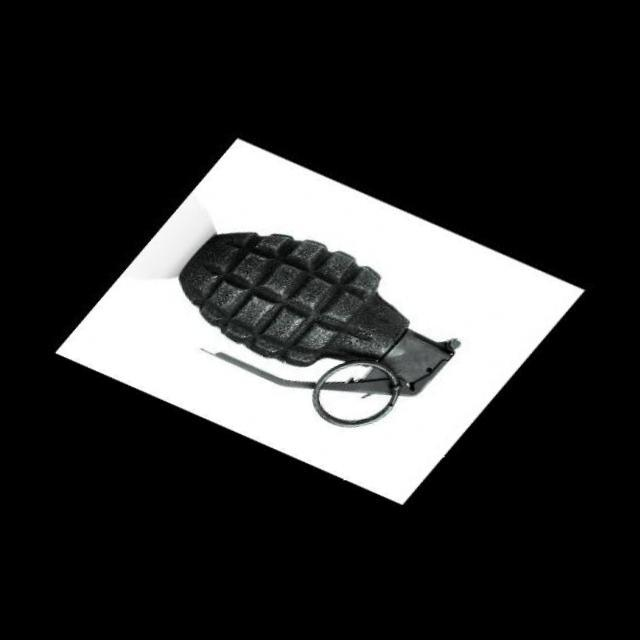grenade: (176, 175, 477, 466)
